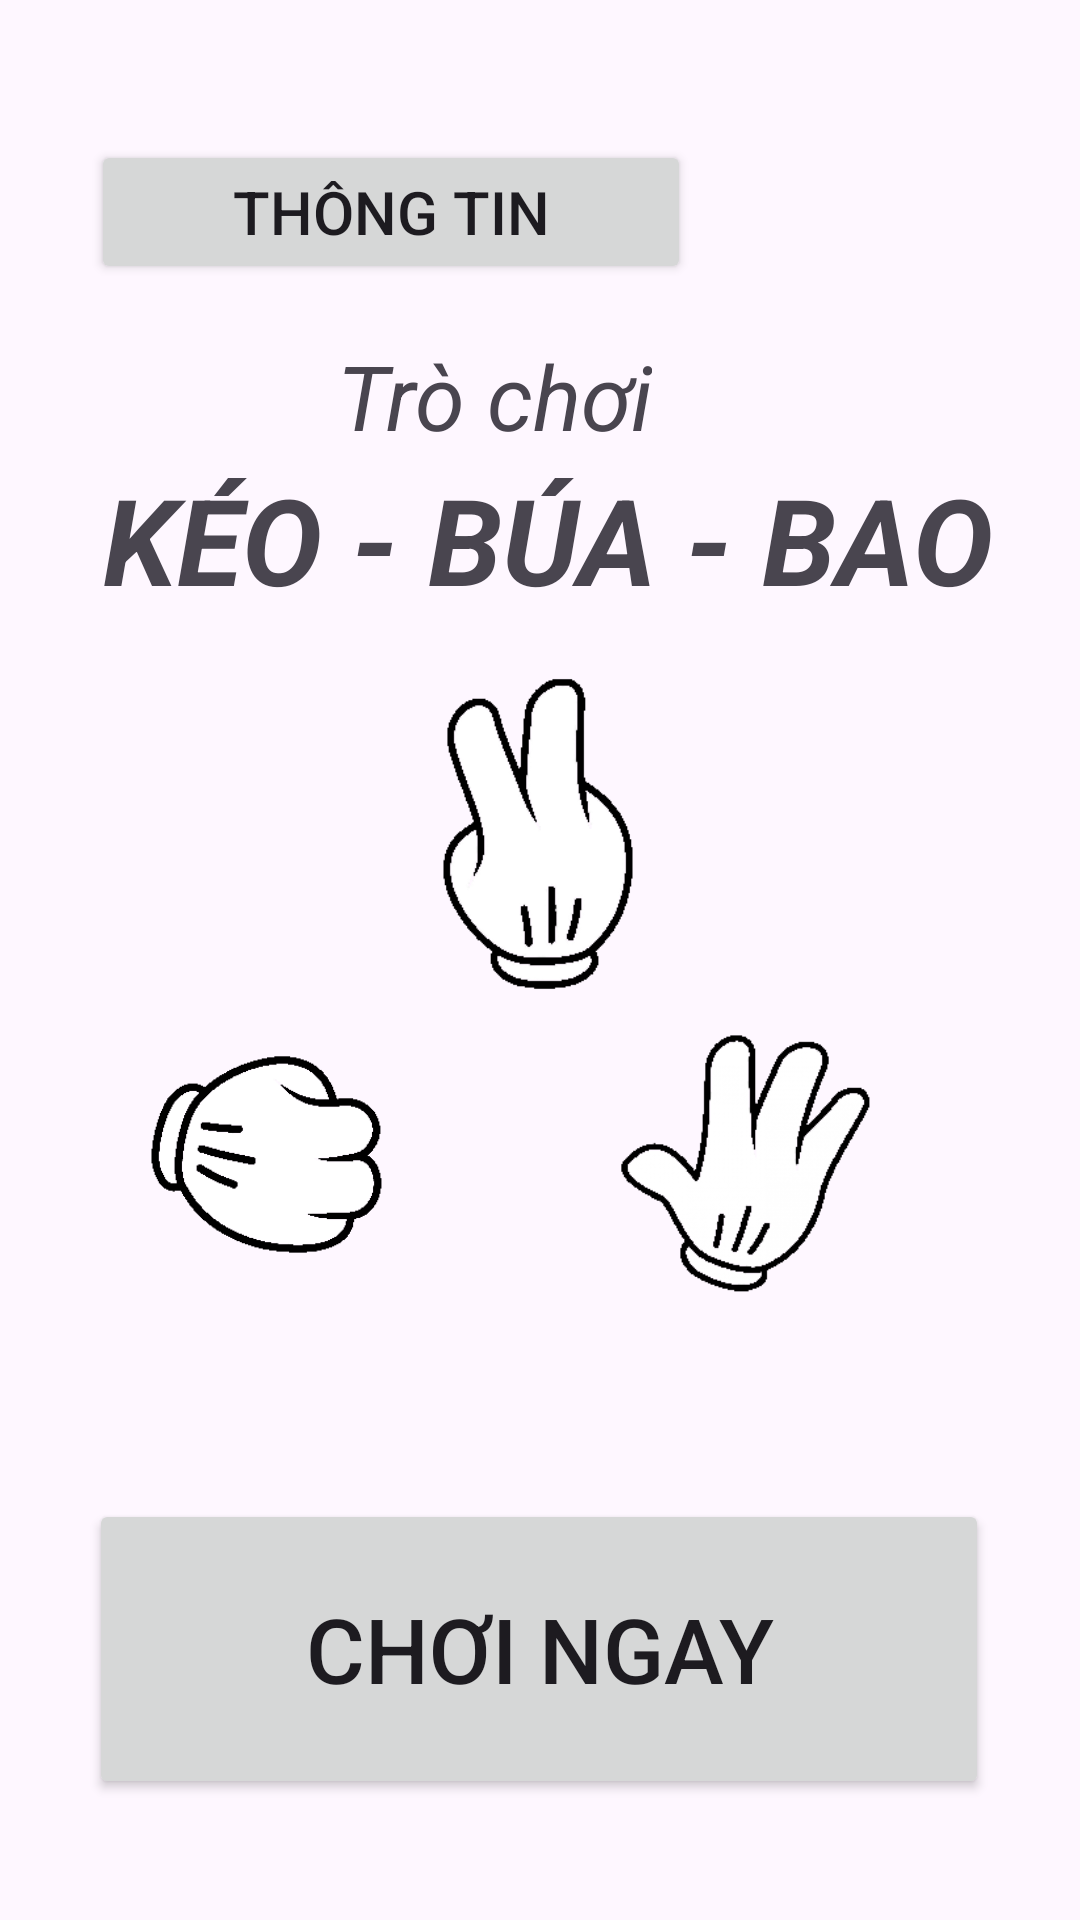

Icon click points for this 1080px×1920px phone screenshot, format [x,y]:
bao: [745,1163]
bua: [266,1154]
keo: [538,834]
